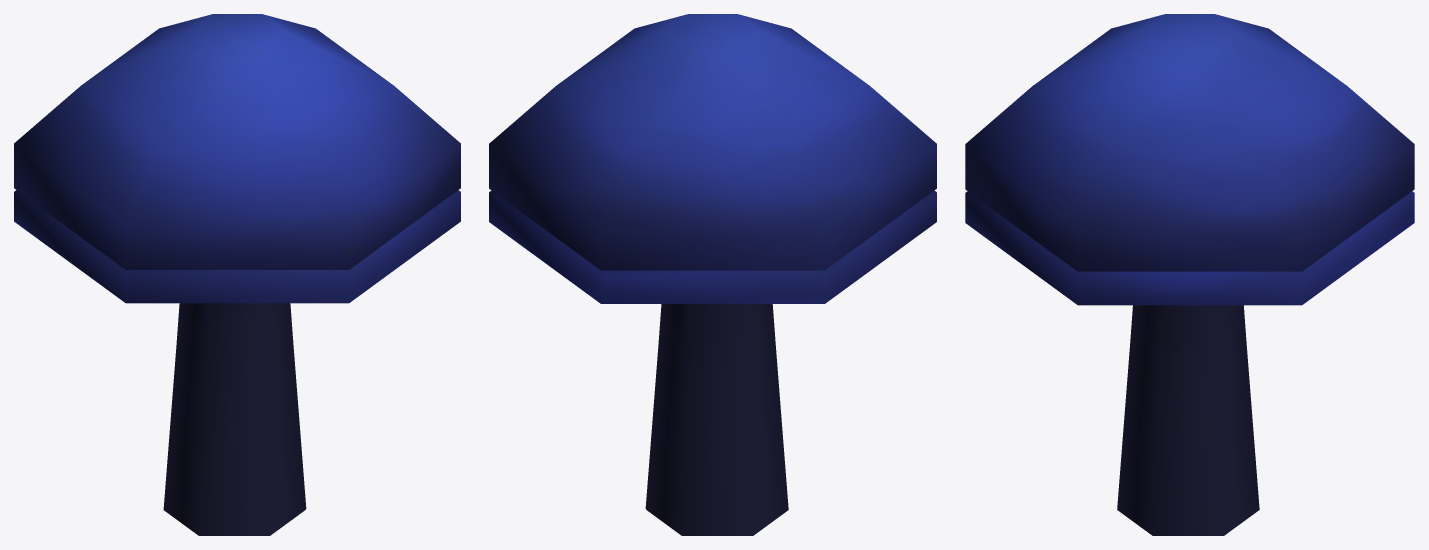
Rendered from 미니버섯_Prop_Ms_00_.fbx.
3 renders of one model, left to right at view 1: azimuth 30°, elevation 25°; view 2: azimuth 150°, elevation 25°; view 3: azimuth 270°, elevation 25°, orthographic.
Visible parts, largest first — view 1: Prop_Ms_01, Prop_Ms_03; view 2: Prop_Ms_01, Prop_Ms_03; view 3: Prop_Ms_01, Prop_Ms_03.
Boxes of the visible parts, left/top/right/bottom form: Prop_Ms_01: left=14, top=14, right=460, bottom=535; Prop_Ms_03: left=14, top=190, right=460, bottom=534; Prop_Ms_01: left=489, top=14, right=936, bottom=535; Prop_Ms_03: left=489, top=190, right=936, bottom=534; Prop_Ms_01: left=965, top=14, right=1414, bottom=271; Prop_Ms_03: left=965, top=191, right=1414, bottom=535.
Size of the model in its own units: 1.81 by 2.46 by 2.09.
